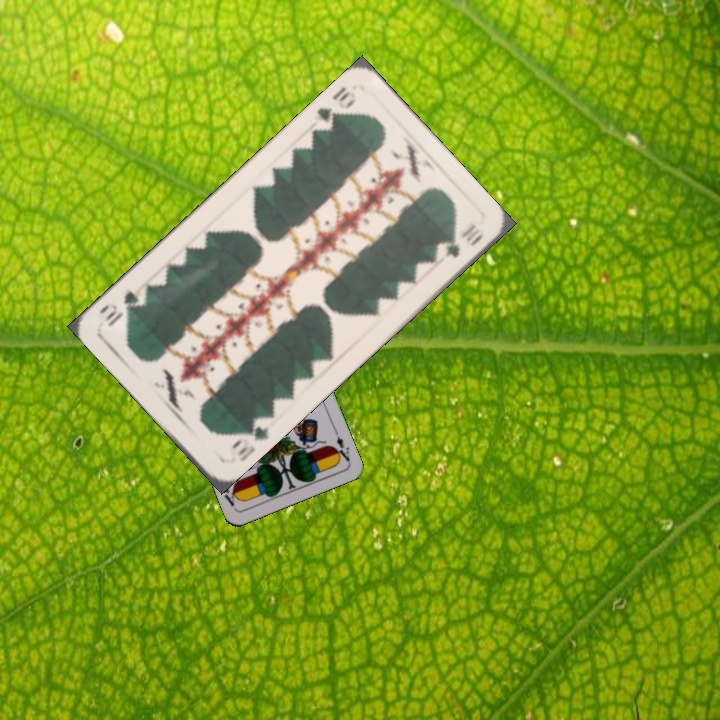EA: (330, 426, 353, 464)
G10: (313, 82, 359, 134), (227, 413, 273, 464)
